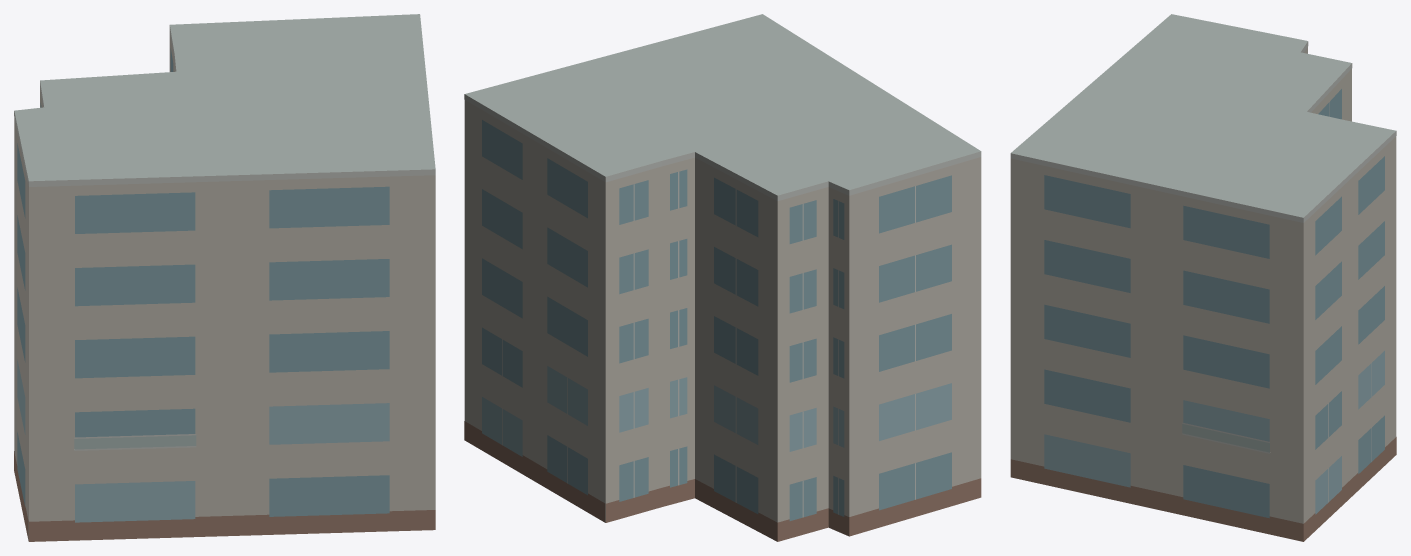
The model's file is survey-upis-32680583.glb.
3 views of the same model, side by side, from view 1: azimuth 30°, elevation 25°; view 2: azimuth 150°, elevation 25°; view 3: azimuth 270°, elevation 25° (orthographic). The views are drawn at different scales.
Parts seen in each view (by area): view 1: survey-upis-32680583.tmp; view 2: survey-upis-32680583.tmp; view 3: survey-upis-32680583.tmp.
Part boxes in pixels (x1,y1,x2,y2): survey-upis-32680583.tmp: (14, 14, 435, 541); survey-upis-32680583.tmp: (464, 14, 981, 541); survey-upis-32680583.tmp: (1010, 14, 1396, 541).
Bounding box in the file's own units: 20.51 × 15.2 × 16.41.
